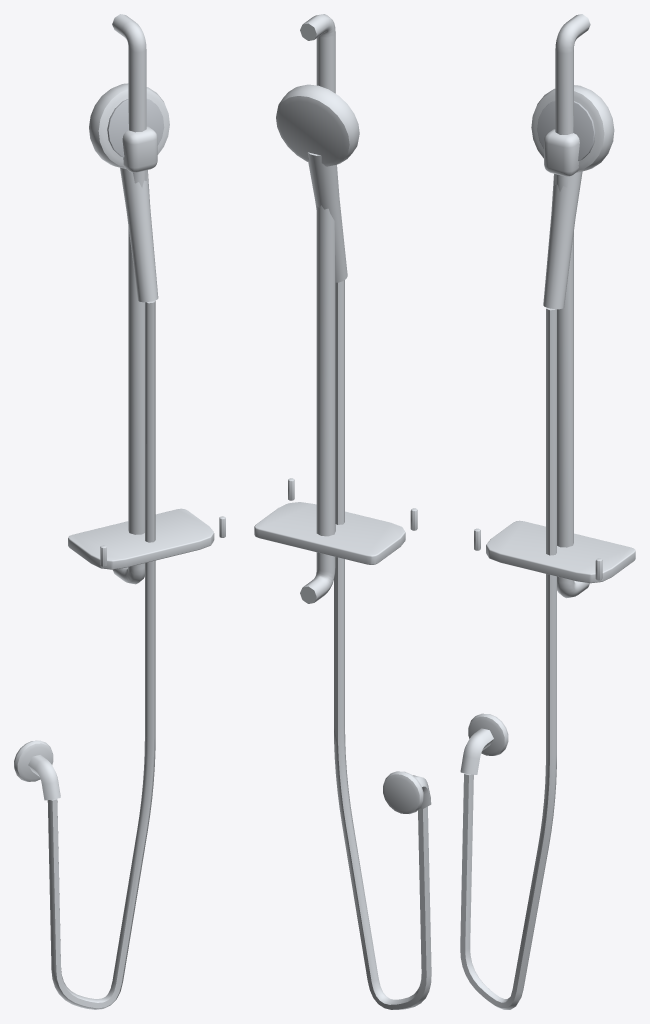
File: chuveiro_ducha_barra_cromo.glb
The picture shows the model from 3 angles, left to right: view 1: azimuth 30°, elevation 25°; view 2: azimuth 150°, elevation 25°; view 3: azimuth 330°, elevation 25°; orthographic projection. The views are drawn at different scales.
Parts seen in each view (by area): view 1: chuveiro_ducha_barra_cromo; view 2: chuveiro_ducha_barra_cromo; view 3: chuveiro_ducha_barra_cromo.
Part boxes in pixels (x1,y1,x2,y2): chuveiro_ducha_barra_cromo: [14, 14, 225, 1009]; chuveiro_ducha_barra_cromo: [254, 14, 431, 1009]; chuveiro_ducha_barra_cromo: [460, 14, 635, 1009].
Size of the model in its own units: 0.2296 by 1.24 by 0.1051.
Materials: 1 (1 with a texture image).
